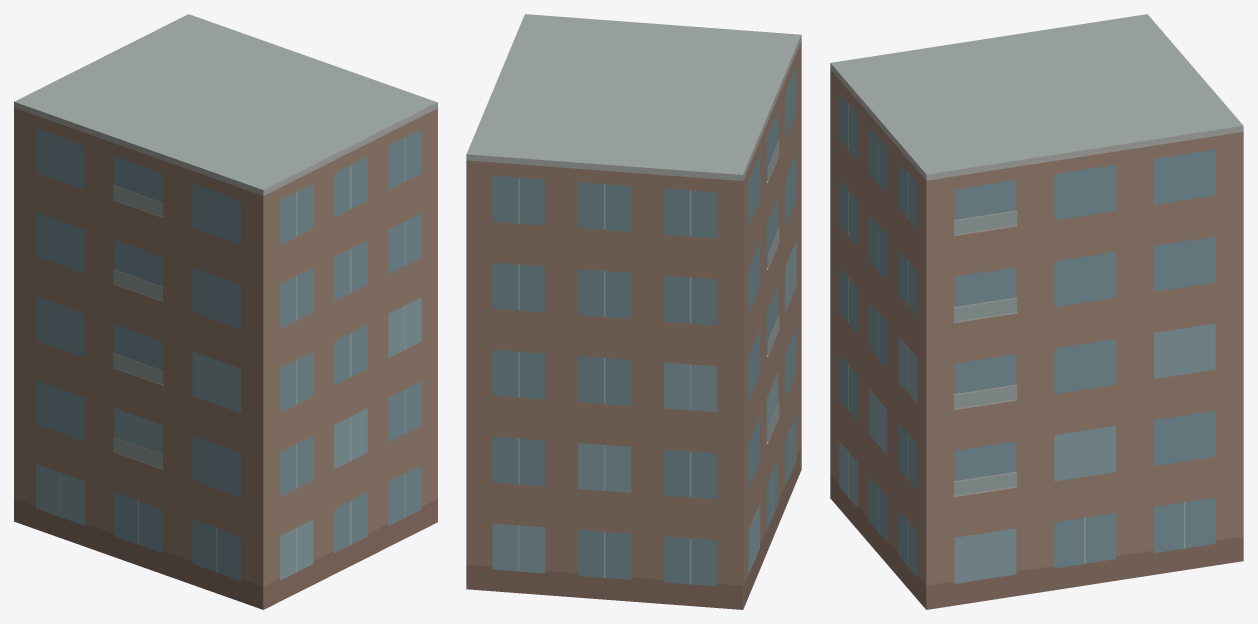
Rendered from survey-upis-33000228.glb.
3 views of the same model, side by side, from view 1: azimuth 30°, elevation 25°; view 2: azimuth 150°, elevation 25°; view 3: azimuth 270°, elevation 25° (orthographic). The views are drawn at different scales.
Visible parts, largest first — view 1: survey-upis-33000228.tmp; view 2: survey-upis-33000228.tmp; view 3: survey-upis-33000228.tmp.
Part boxes in pixels (left/top/right/bottom): survey-upis-33000228.tmp: left=14, top=14, right=437, bottom=609; survey-upis-33000228.tmp: left=466, top=14, right=801, bottom=609; survey-upis-33000228.tmp: left=830, top=14, right=1243, bottom=609.
Size of the model in its own units: 13.77 by 17.4 by 14.98.
